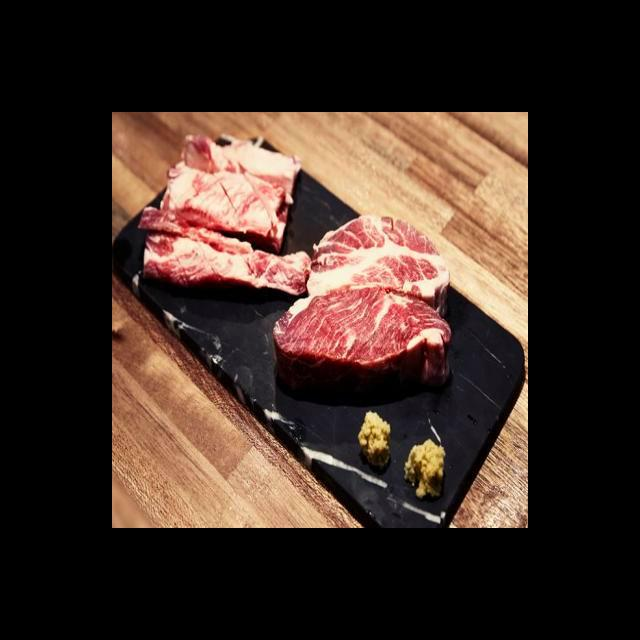pork: (274, 210, 452, 396), (140, 125, 306, 285)
